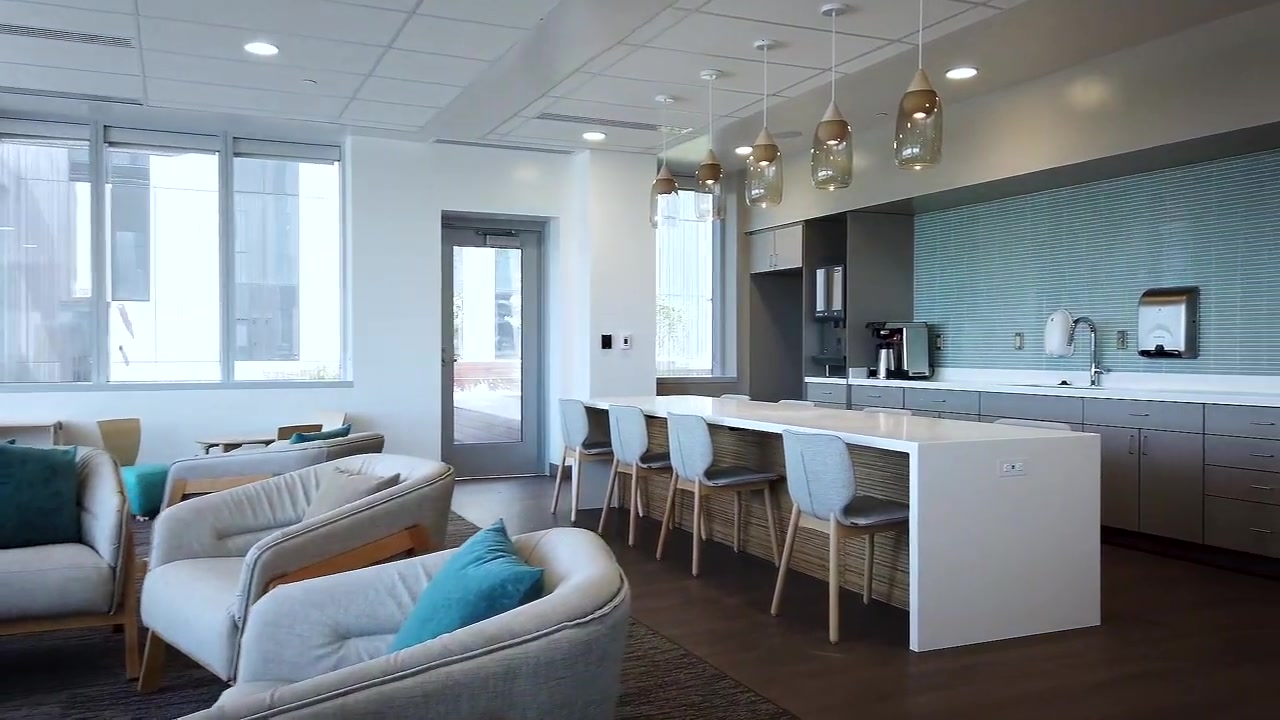cabinet: (747, 219, 805, 277)
chair: (768, 428, 908, 644), (656, 405, 784, 578), (550, 398, 646, 522), (595, 403, 680, 540), (95, 414, 170, 519), (272, 420, 325, 442), (315, 408, 350, 434)
counter: (583, 396, 1100, 651), (855, 372, 1280, 548)
countertop: (586, 399, 1118, 440), (803, 377, 1280, 408)
dispenser: (1136, 284, 1201, 360), (1043, 308, 1076, 357)
door_handle: (442, 357, 459, 364)
faucet: (1067, 316, 1103, 387)
handle: (1246, 420, 1277, 429), (1248, 449, 1273, 459), (1248, 525, 1273, 535), (1126, 433, 1136, 457), (1248, 482, 1271, 492), (1095, 364, 1110, 378), (1127, 410, 1149, 419), (1142, 434, 1149, 457), (768, 253, 778, 267), (930, 397, 947, 404), (866, 394, 881, 401), (820, 390, 834, 396)
sofa: (174, 524, 632, 720), (135, 453, 454, 697), (1, 443, 142, 681), (146, 432, 384, 511)
table: (192, 433, 270, 454), (1, 417, 62, 441)
